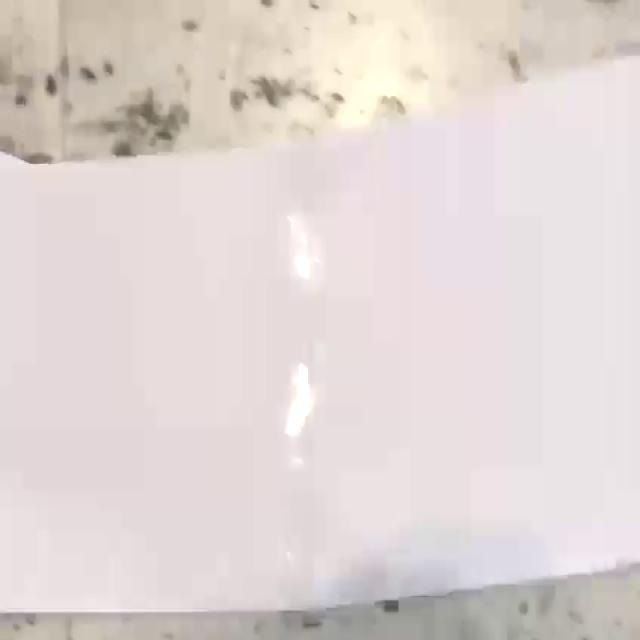road: (0, 57, 640, 611)
